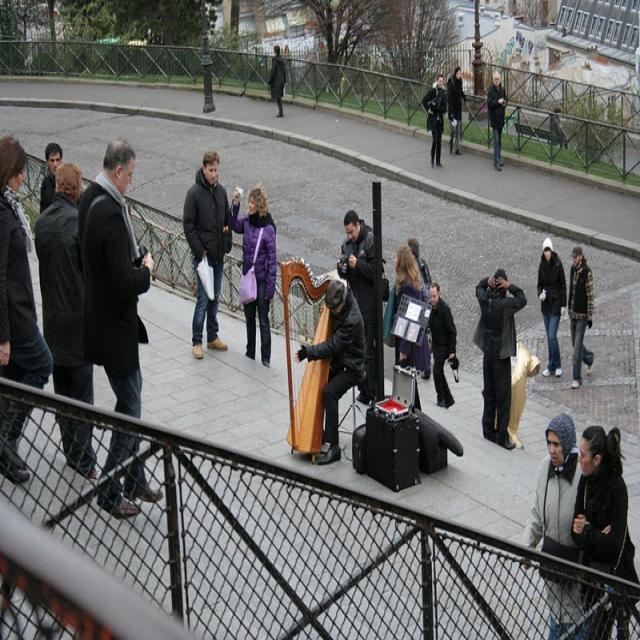harp: (280, 258, 343, 458)
